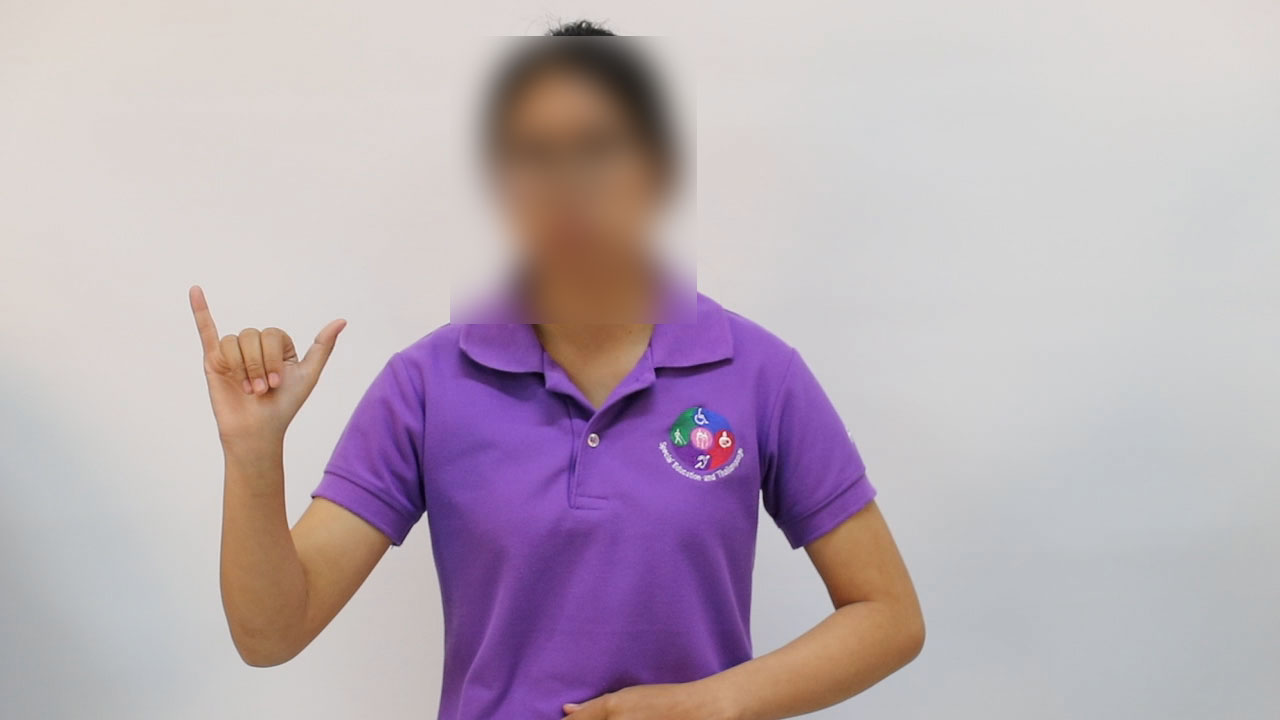yor: (170, 271, 351, 458)
